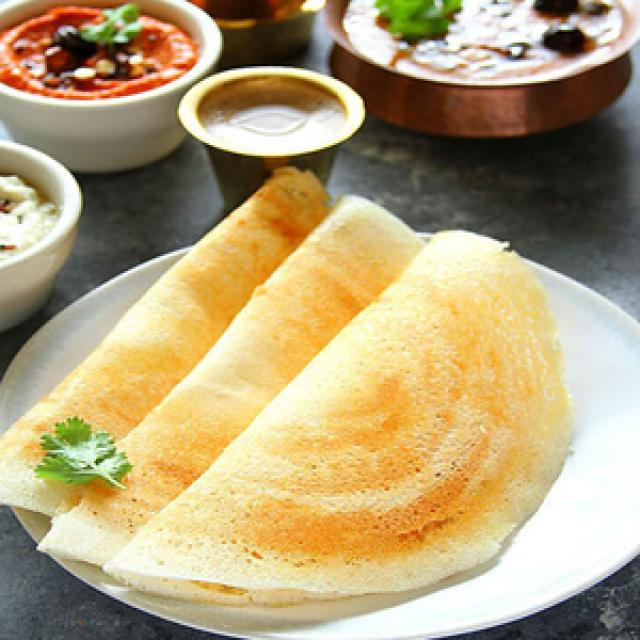dosa: (95, 217, 572, 615), (0, 185, 427, 613), (0, 155, 314, 520)
